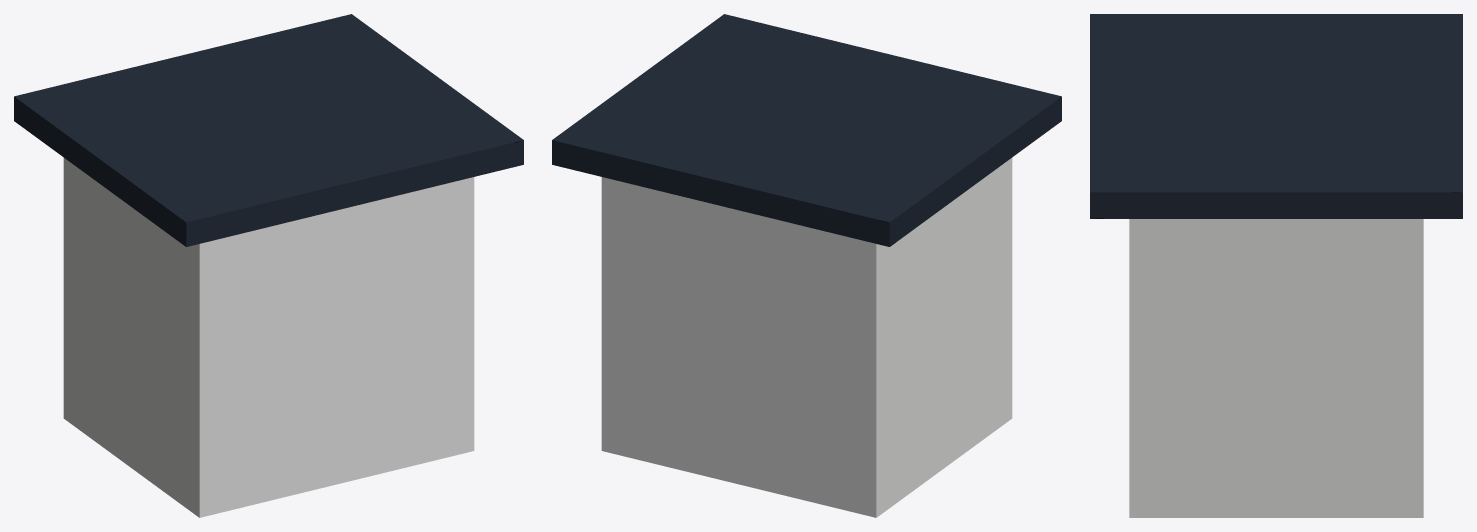
The model's file is checkpoint-booth-authored-atlas.glb.
3 views of the same model, side by side, from view 1: azimuth 30°, elevation 25°; view 2: azimuth 150°, elevation 25°; view 3: azimuth 270°, elevation 25° (orthographic). The views are drawn at different scales.
Parts seen in each view (by area): view 1: Authored surface.011; view 2: Authored surface.011; view 3: Authored surface.011.
Part boxes in pixels (x1,y1,x2,y2): Authored surface.011: [14, 14, 523, 517]; Authored surface.011: [552, 14, 1061, 517]; Authored surface.011: [1090, 14, 1462, 517].
Size of the model in its own units: 4.3 by 3.85 by 3.8.
1 material, 1 textured.
